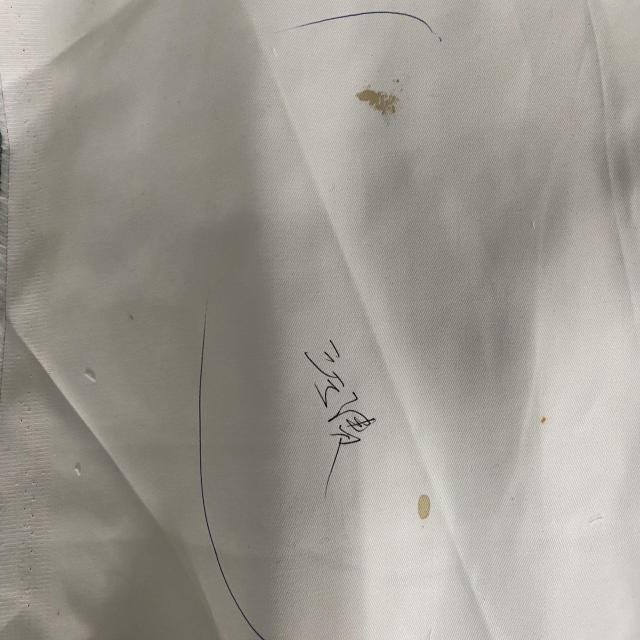Thread_other: (490, 370, 574, 465), (335, 53, 427, 139), (396, 474, 440, 530)
